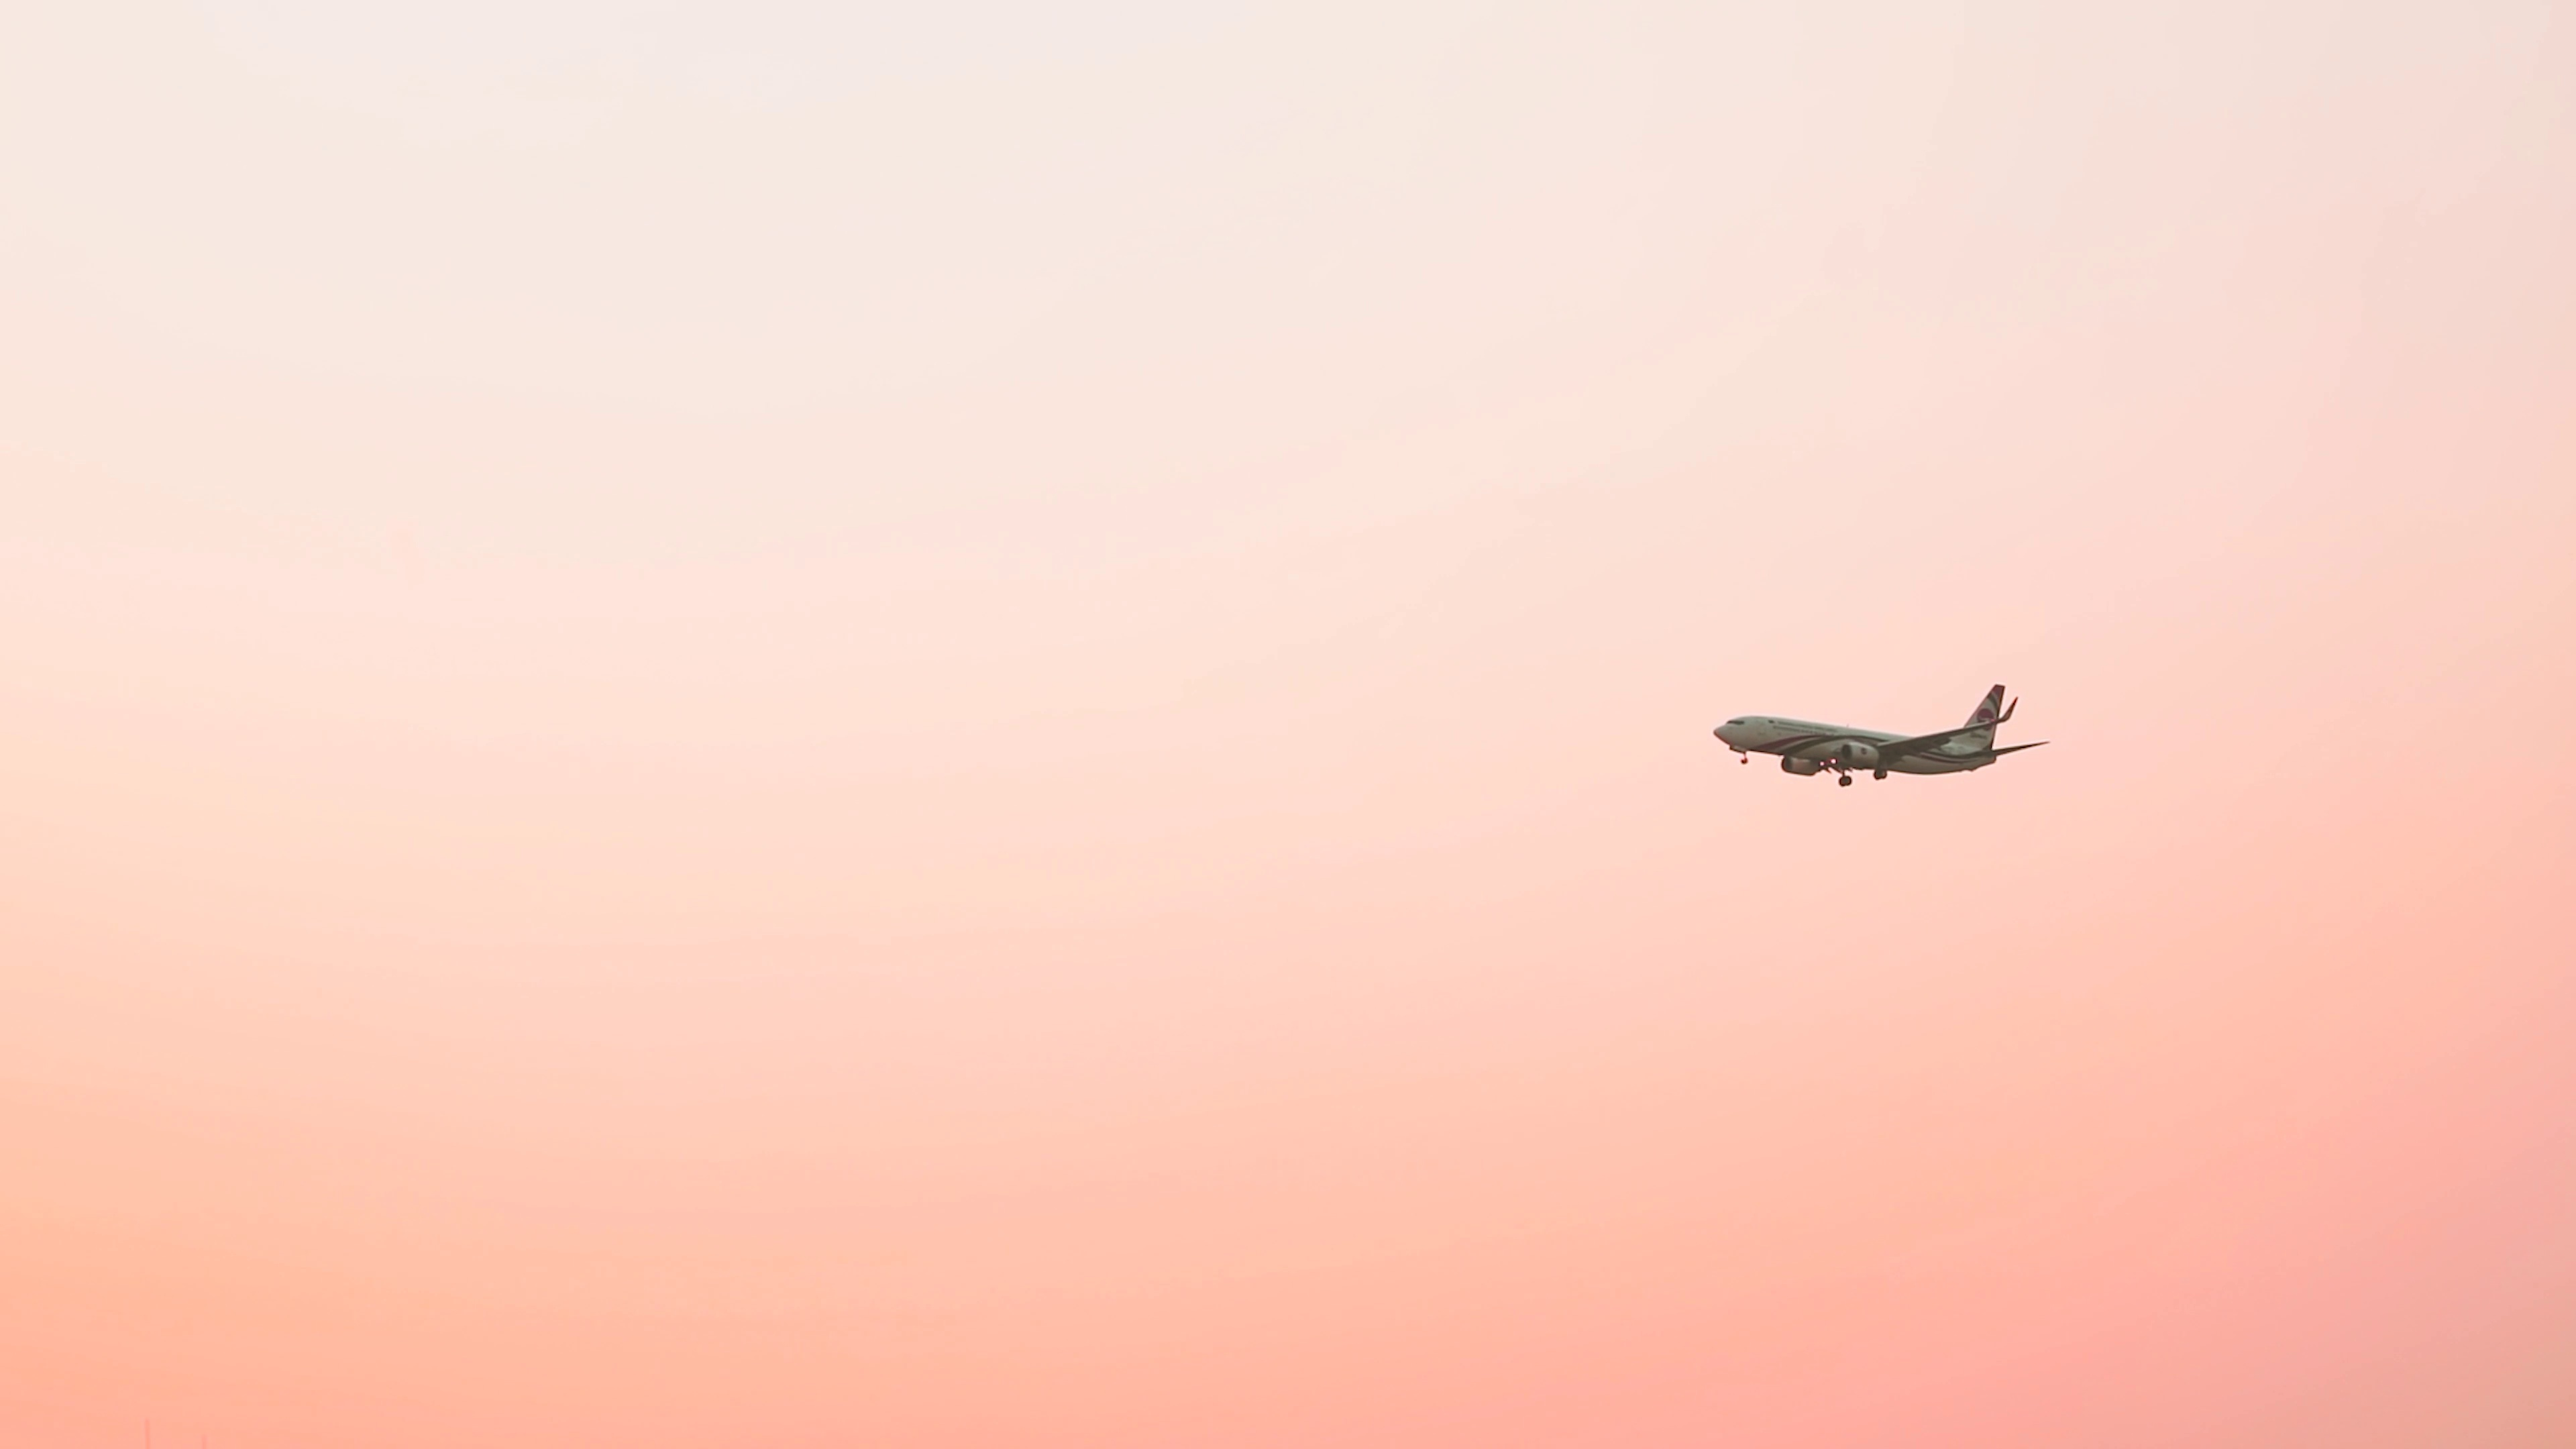plane: (1711, 685, 2045, 787)
